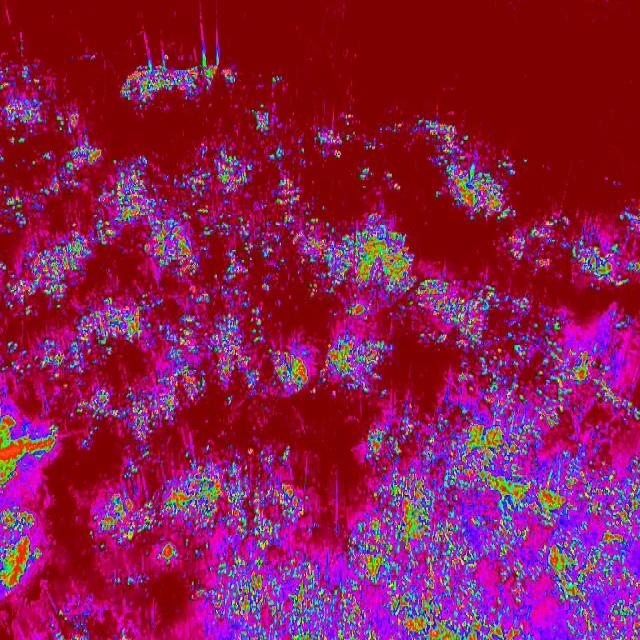fire: (254, 74, 412, 640), (105, 140, 255, 640), (412, 110, 524, 640), (524, 199, 640, 640), (0, 50, 54, 640), (54, 101, 104, 640), (121, 50, 248, 104)
